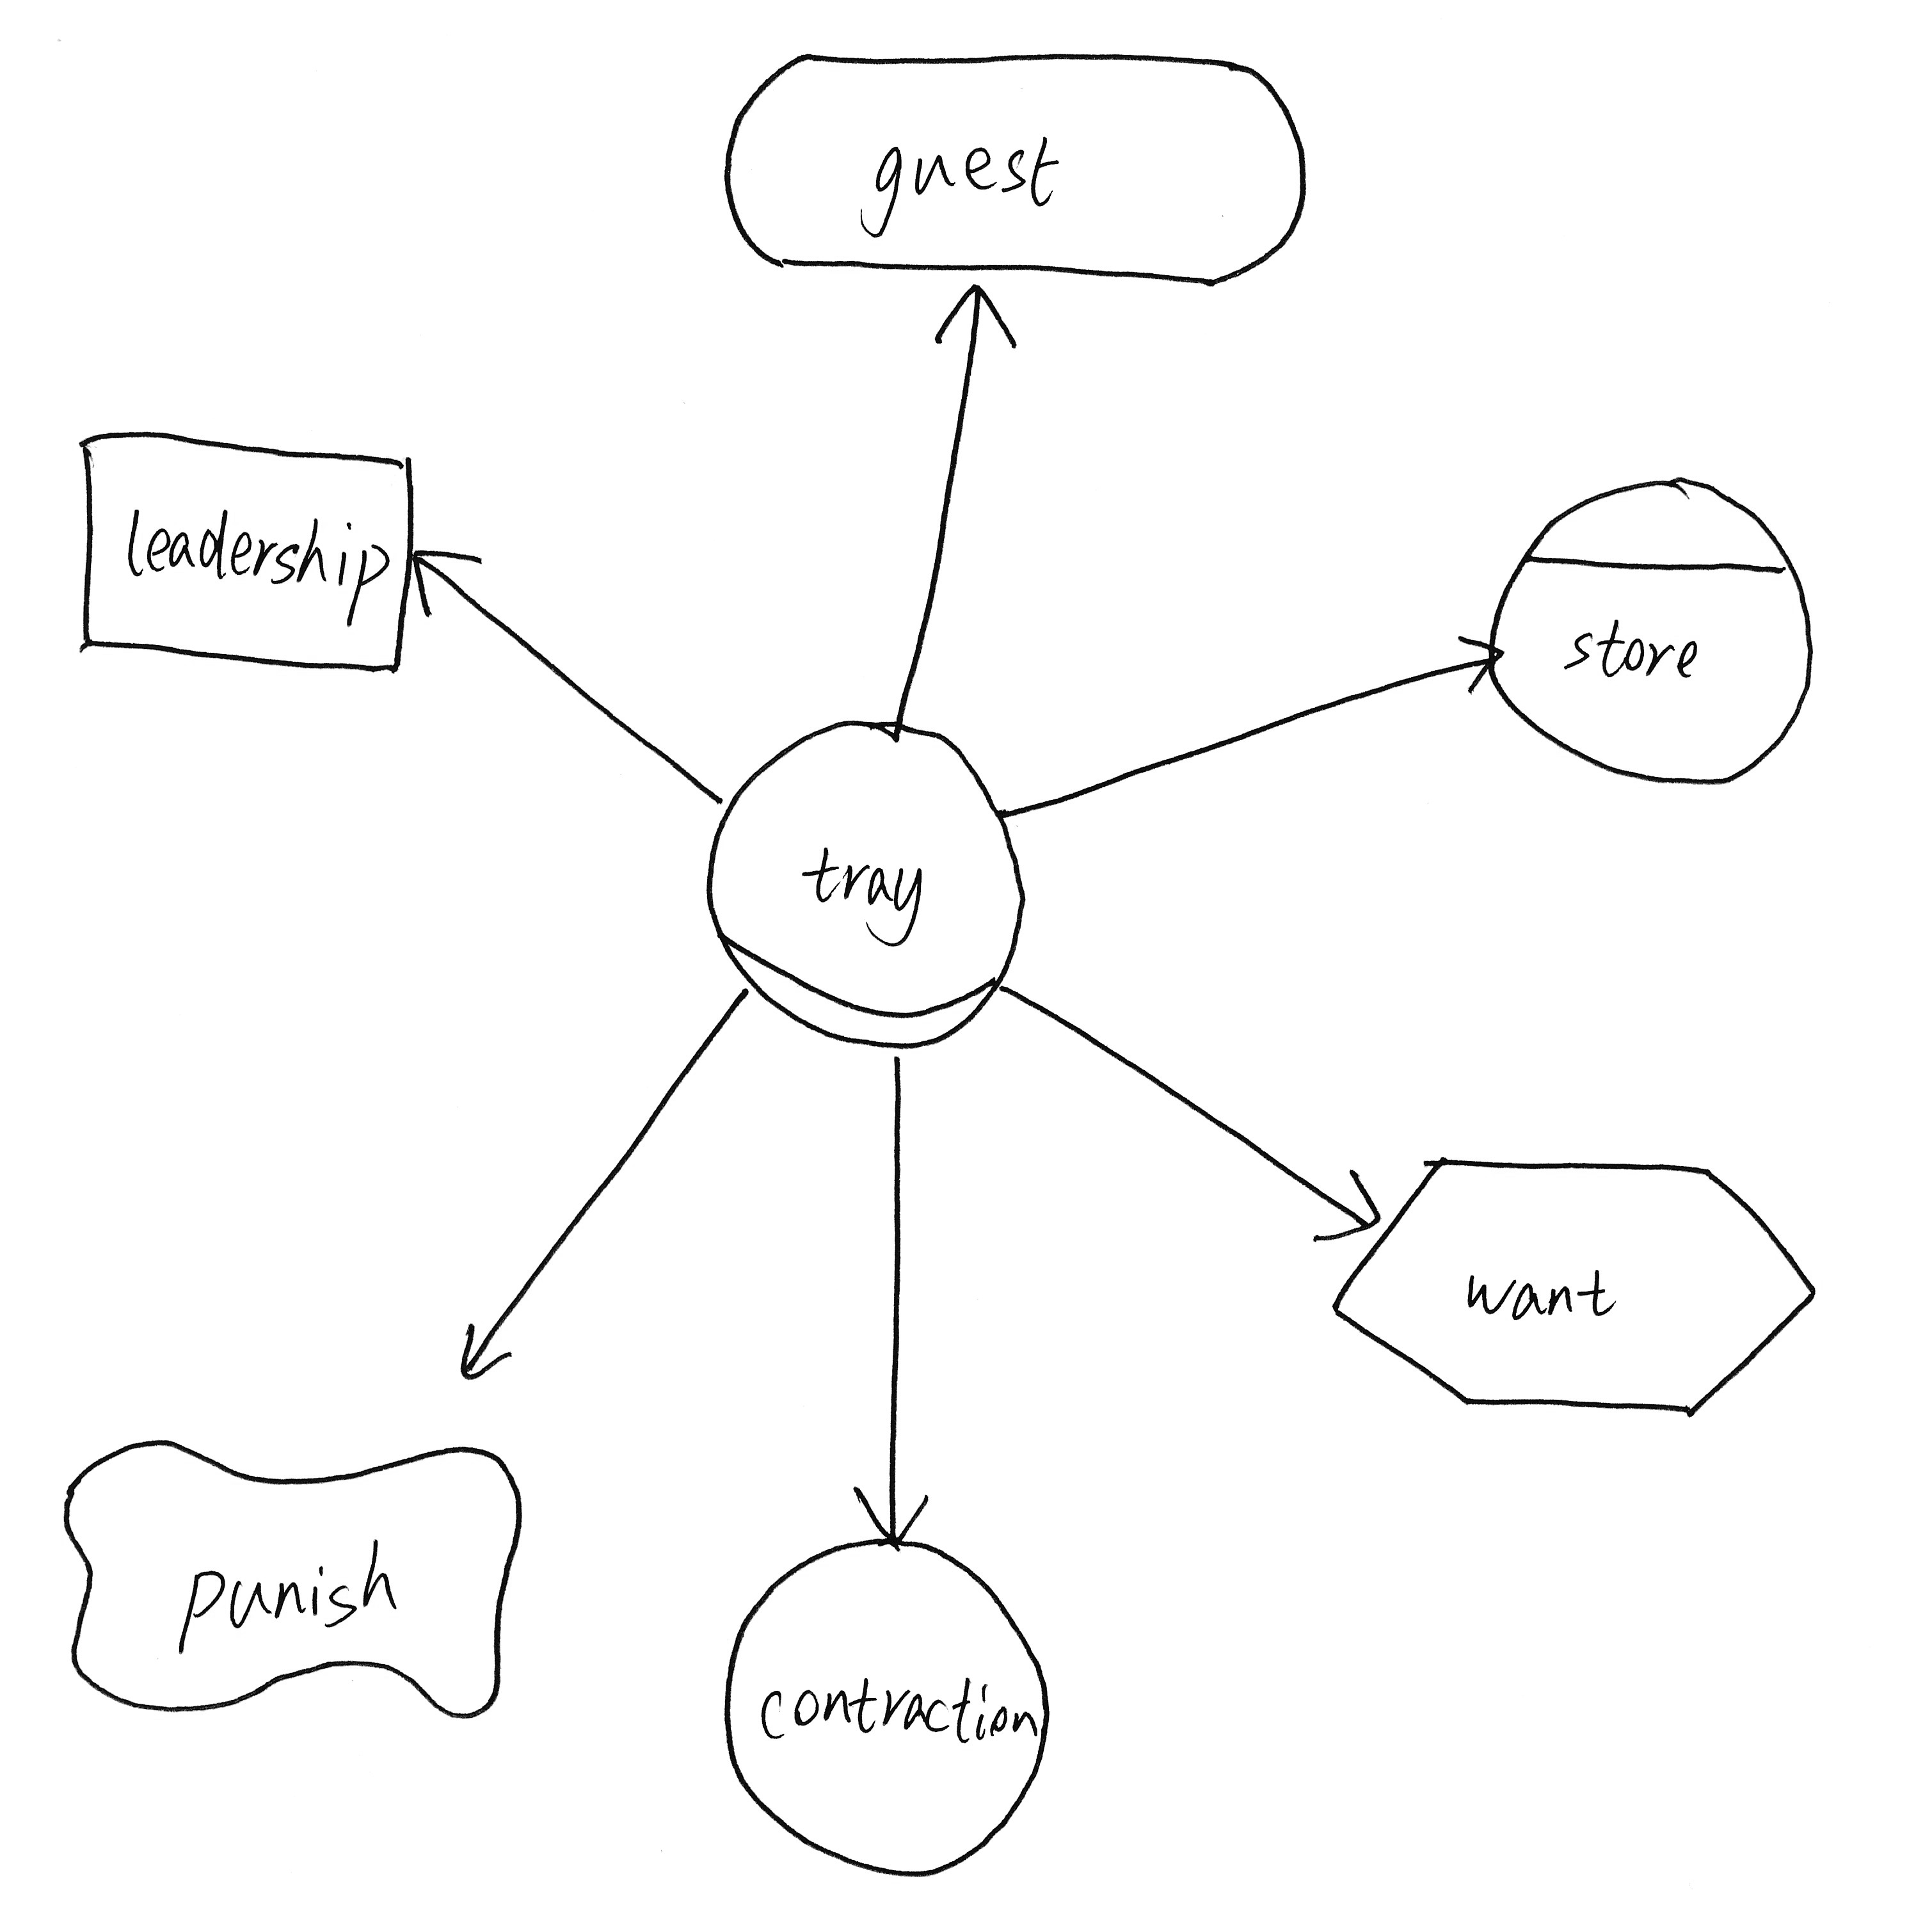actor: (701, 1522, 1064, 1894)
agent: (1476, 459, 1837, 801)
arrow: (1304, 1154, 1392, 1259), (842, 1471, 945, 1555), (927, 275, 1024, 365), (403, 528, 489, 626), (1448, 614, 1516, 708), (442, 1308, 515, 1387)
goal: (708, 35, 1334, 303)
quality: (40, 1417, 545, 1738)
resource: (54, 409, 431, 700)
role: (687, 708, 1045, 1061)
task: (1315, 1129, 1848, 1436)
